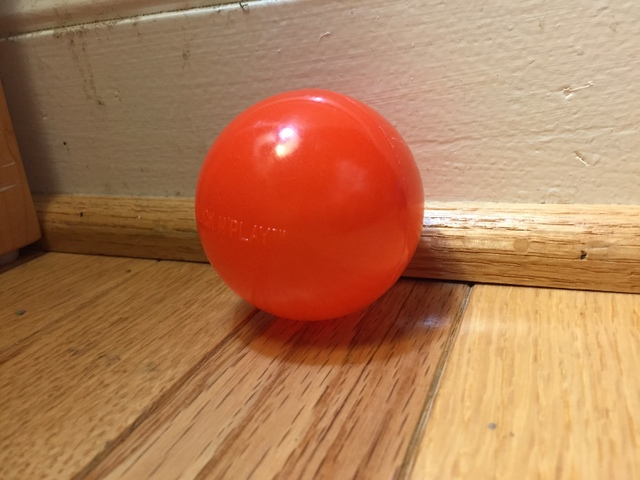Ball: (196, 90, 426, 324)
